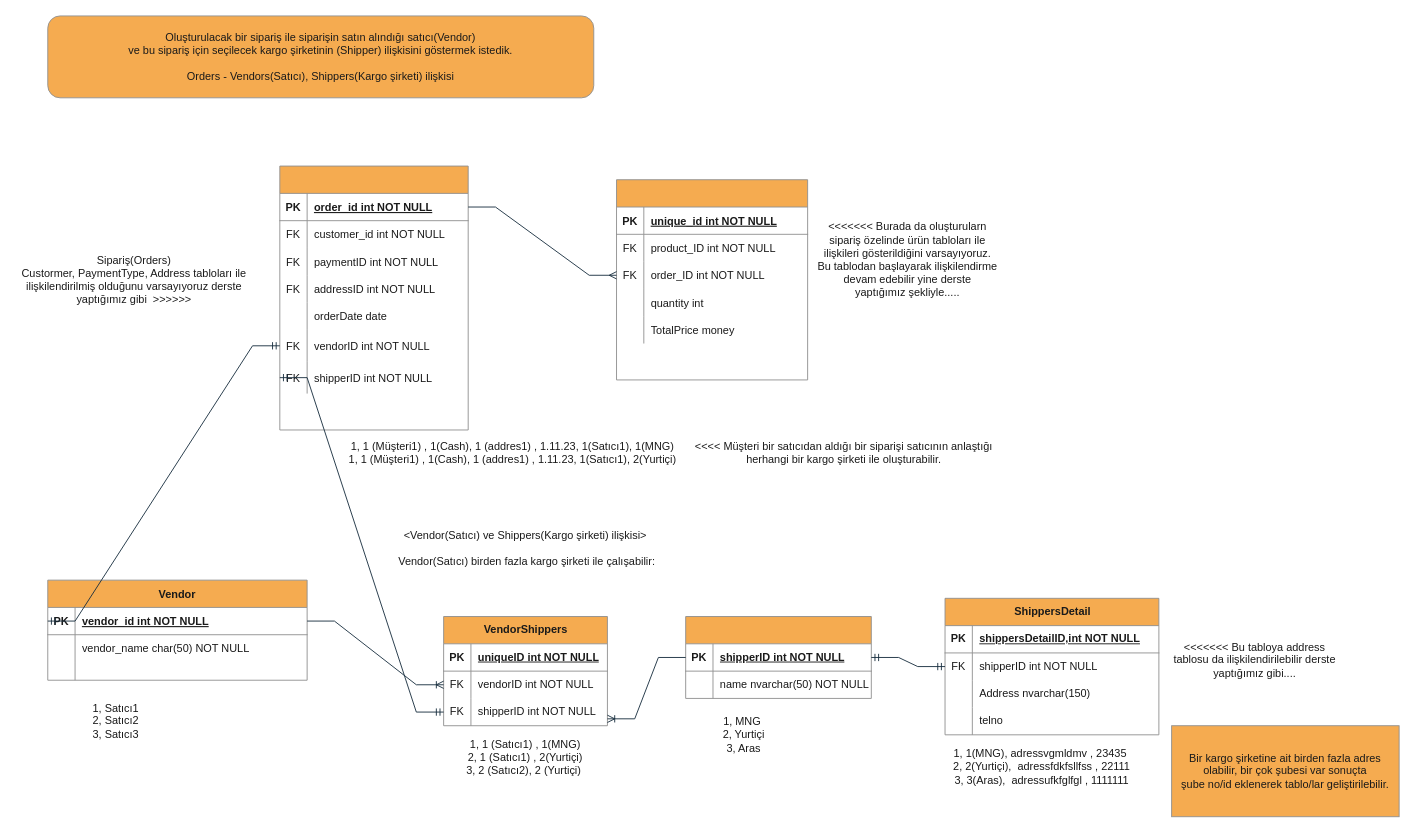
Some shapes in this 1415 by 833 pixel diagram are drawn without their labels. The box of each missing label's shape, as (x1, y1, x2, y2) in pixels:
OrderProduct: (616, 179, 808, 380)
Orders: (279, 165, 468, 430)
Shippers: (685, 616, 871, 698)
